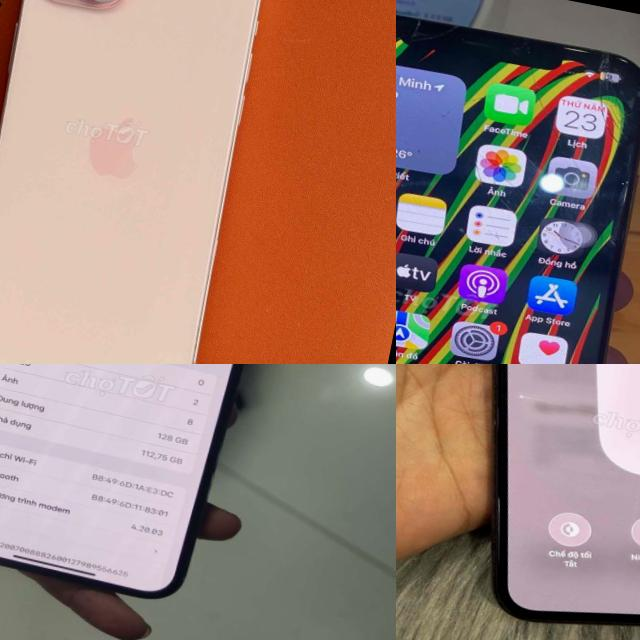gen_11: (418, 364, 640, 640)
gen_12_13: (0, 364, 293, 621)
gen_15: (0, 0, 294, 364)
gen_x_xs: (396, 14, 640, 364)
physical_damage: (396, 0, 640, 263)
